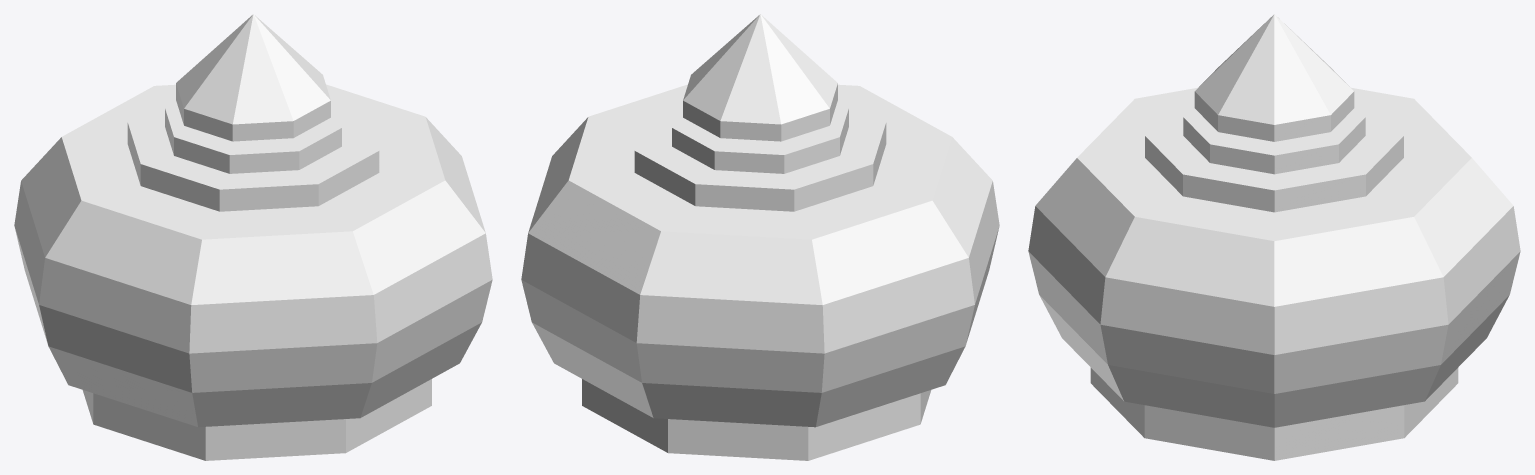
File: white_ship.gltf
3 renders of one model, left to right at view 1: azimuth 30°, elevation 25°; view 2: azimuth 150°, elevation 25°; view 3: azimuth 270°, elevation 25°, orthographic.
Visible parts, largest first — view 1: Ship.w; view 2: Ship.w; view 3: Ship.w.
Boxes of the visible parts, x1,y1,x2,y2 form: Ship.w: [14, 14, 492, 460]; Ship.w: [521, 14, 999, 460]; Ship.w: [1028, 14, 1520, 460].
Bounding box in the file's own units: 1.01 × 0.8376 × 1.01.
1 material, 1 textured.
